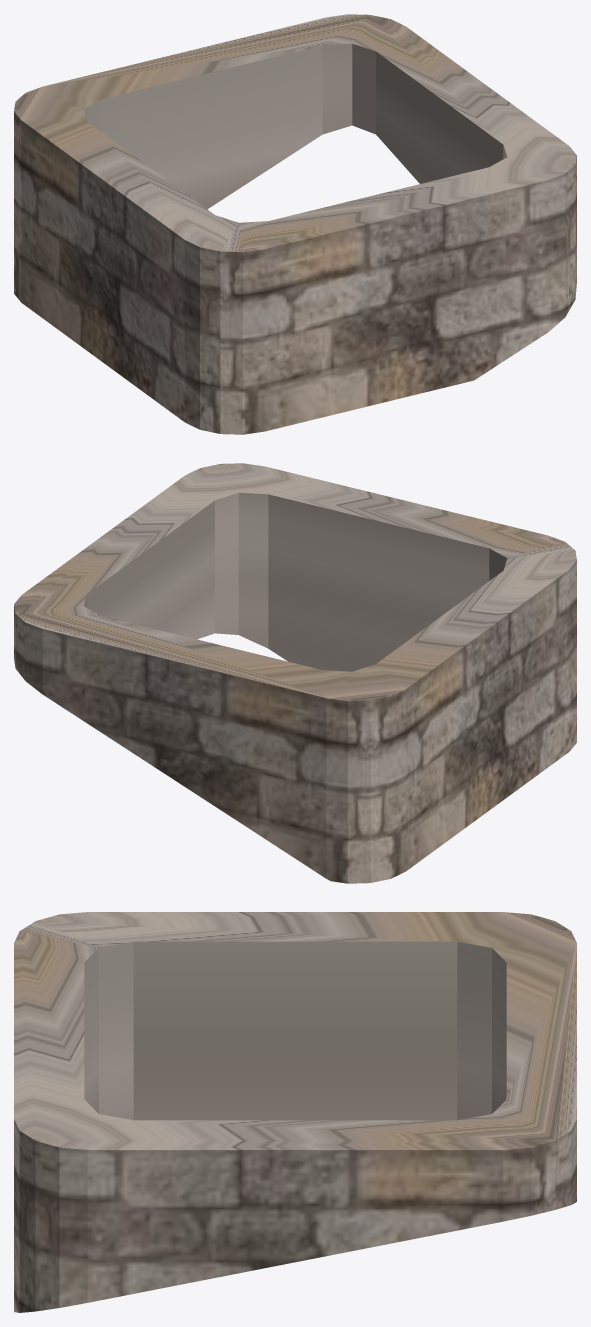
Rendered from Column_B.gltf.
The picture shows the model from 3 angles, top to bottom: view 1: azimuth 30°, elevation 25°; view 2: azimuth 150°, elevation 25°; view 3: azimuth 270°, elevation 25°; orthographic projection. The views are drawn at different scales.
Parts seen in each view (by area): view 1: Column_B; view 2: Column_B; view 3: Column_B.
Boxes of the visible parts, x1=… form: Column_B: x1=14, y1=14, x2=576, y2=434; Column_B: x1=14, y1=463, x2=576, y2=883; Column_B: x1=14, y1=912, x2=576, y2=1312.
Bounding box in the file's own units: 2 × 0.9072 × 2.
Materials: 1 (1 with a texture image).
